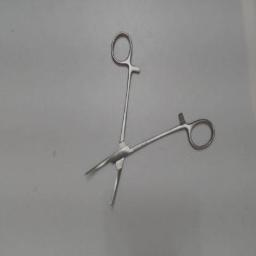Crile Artery Forceps: (80, 26, 216, 212)
